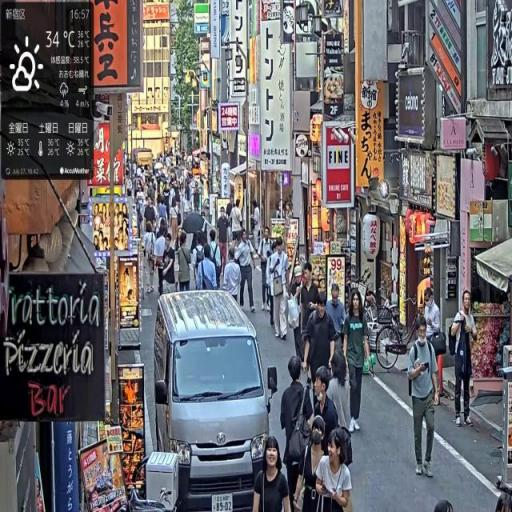person: (407, 314, 442, 478), (281, 356, 316, 512), (343, 289, 372, 435), (451, 288, 479, 429), (314, 428, 355, 512), (294, 421, 329, 512), (253, 434, 291, 512), (269, 239, 291, 343), (326, 283, 348, 378), (236, 228, 257, 313), (259, 227, 274, 315), (224, 249, 244, 308), (177, 231, 195, 294), (197, 245, 218, 291), (218, 206, 231, 279)
